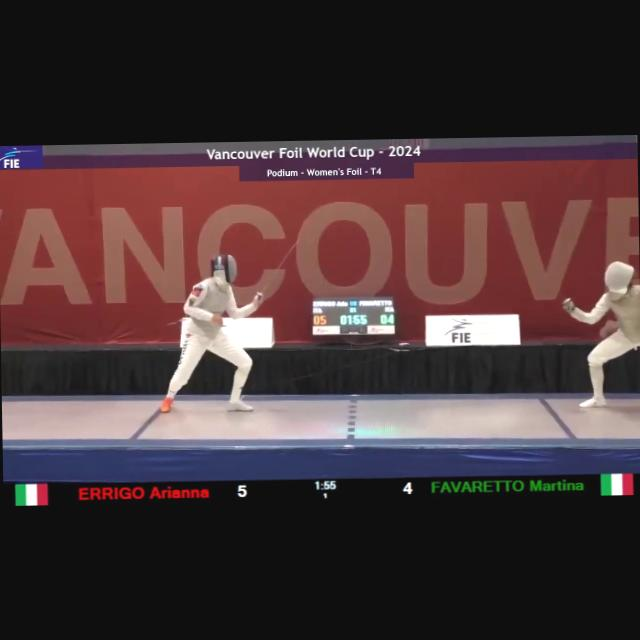blade: (256, 230, 304, 299)
